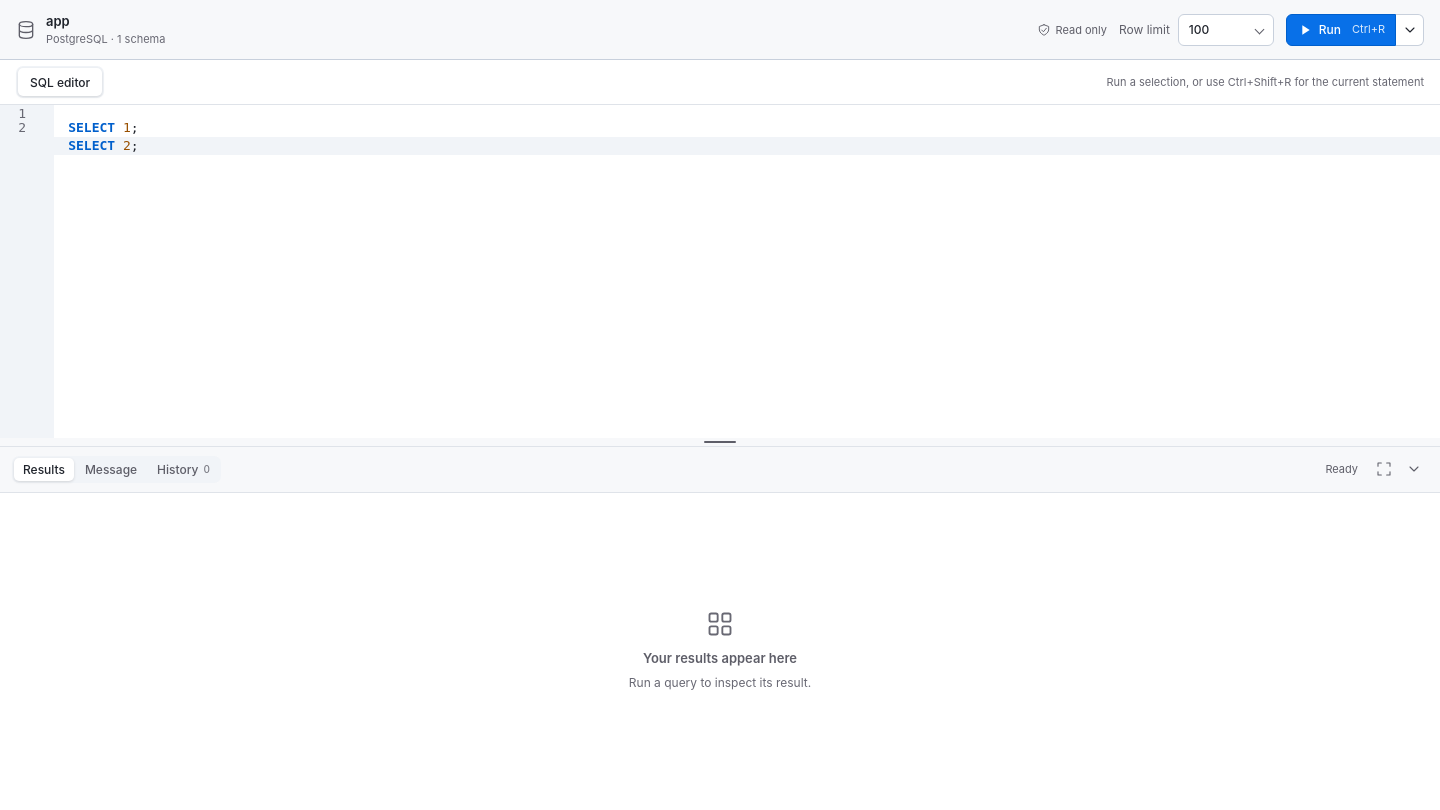
it: QueryPage › runs selected SQL from the editor menu through the existing readonly query path
The width and height of the screenshot is (1440, 810).
Right-click the element with class "cm-editor" at (720, 271), box [0,105,1439,438]
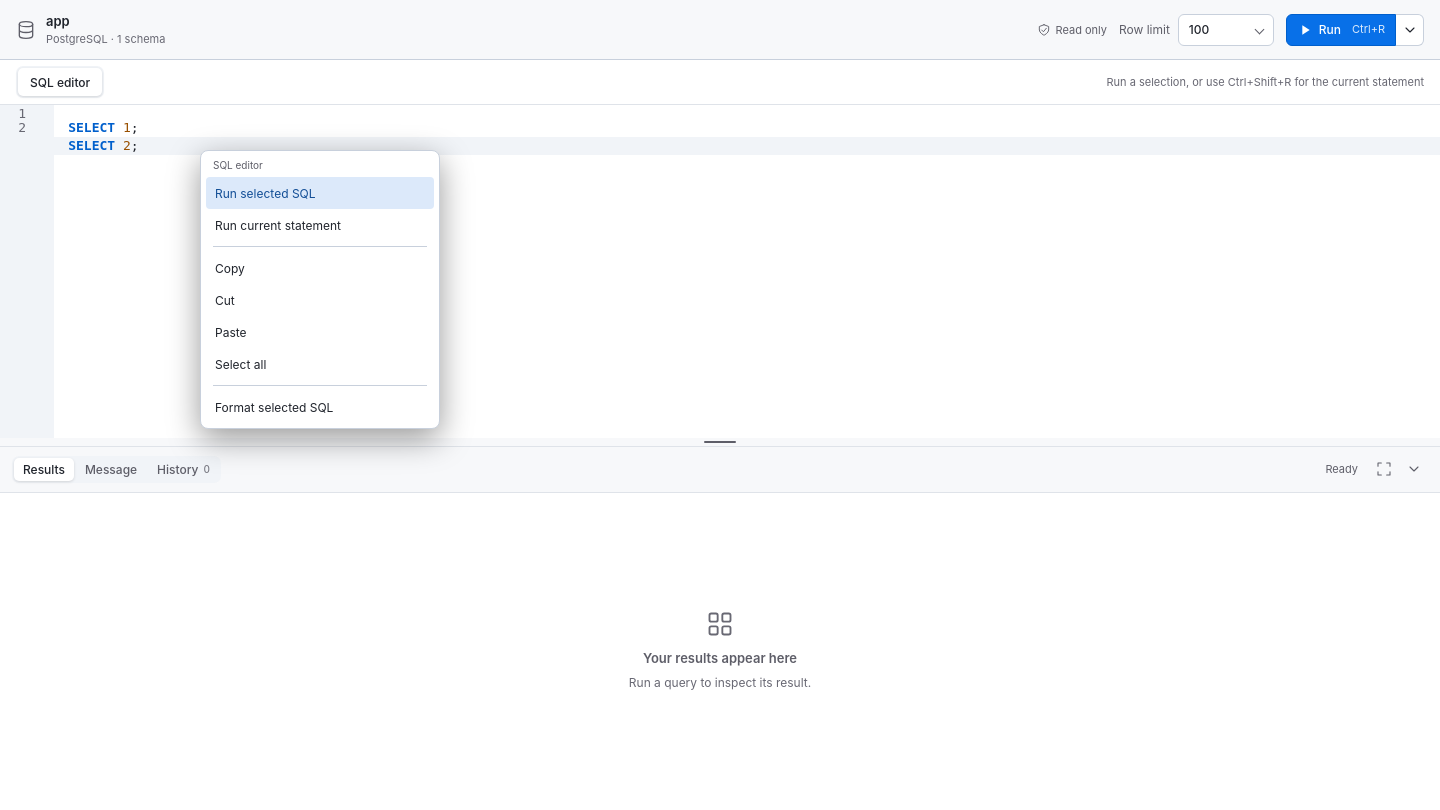
Click the menu item "Run selected SQL" at (320, 193), box [206,177,434,209]
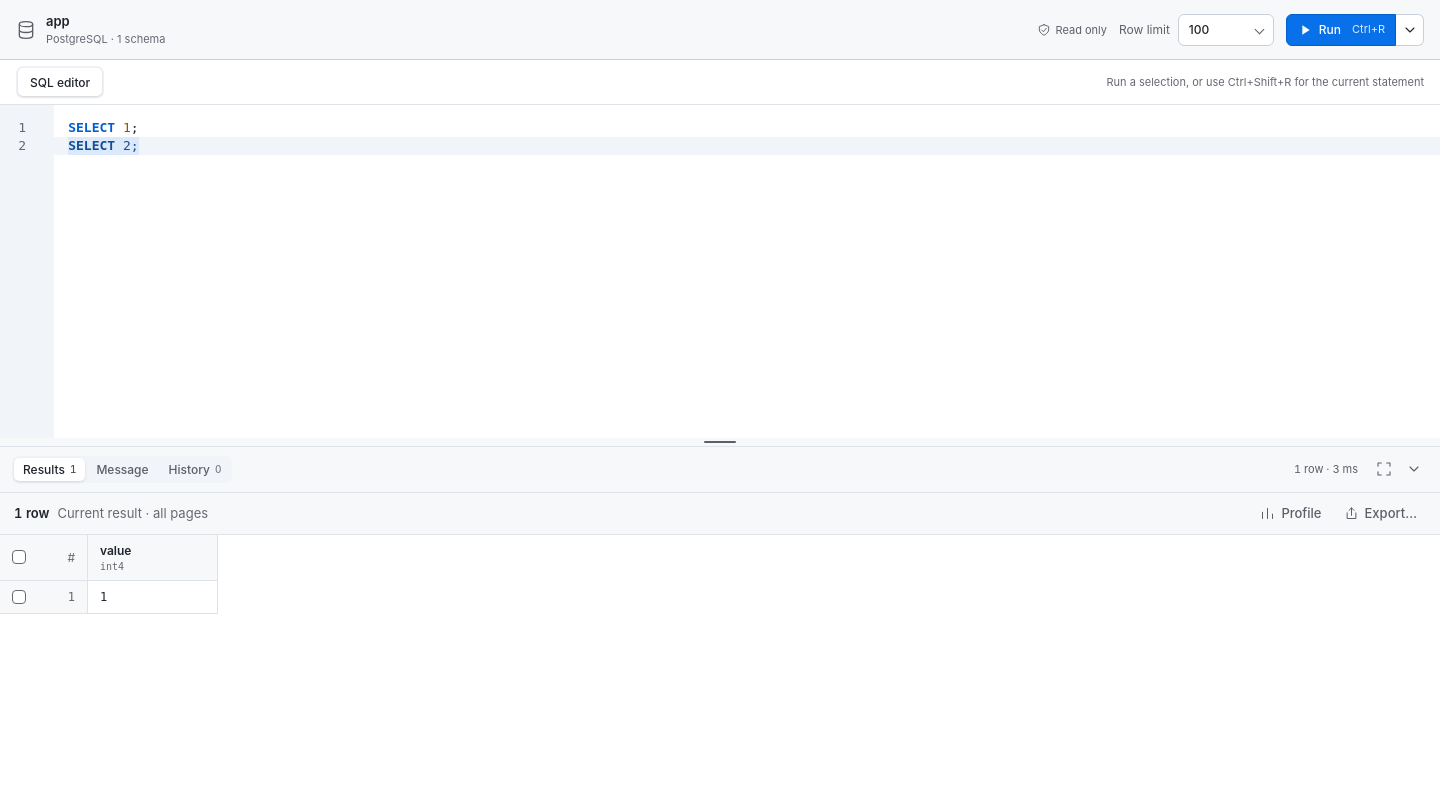
Expected: the menu is gone
